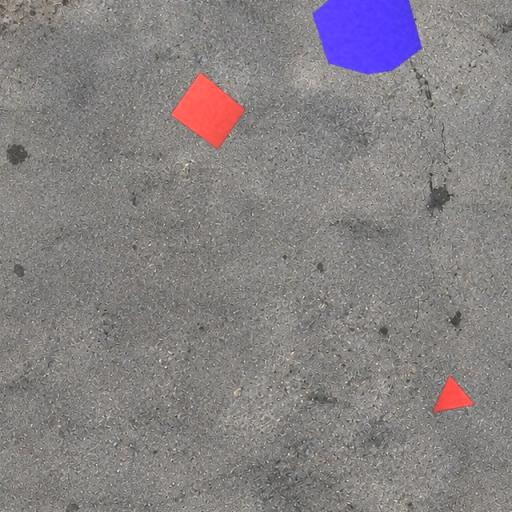RED_SQUARE: (170, 72, 246, 150)
